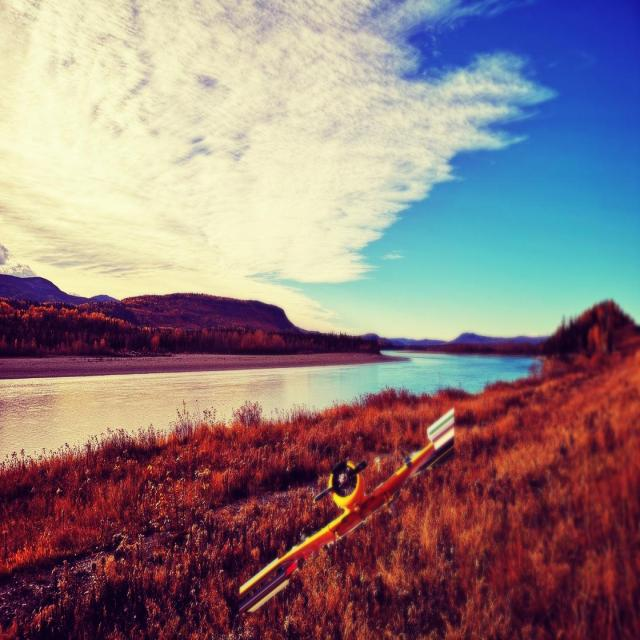airplane: (237, 406, 455, 616)
